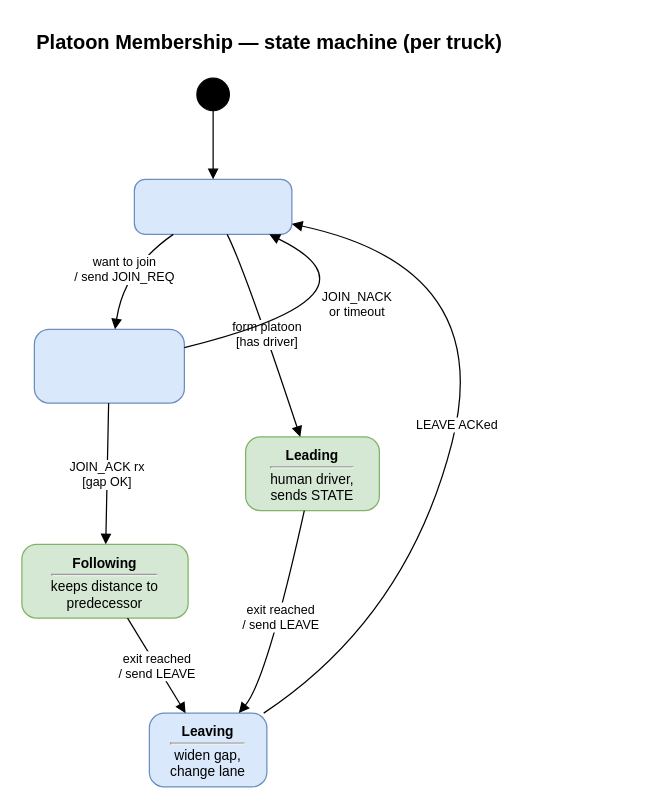
The diagram is 654 pixels wide and 809 high, and some of its shapes have lost their labels. Here are the shapes that lost their labels. From the top down, the centre of each, then its label:
(212,206): Standalone not in a platoon
(108,365): Joining JOIN_REQ sent, closing the gap
